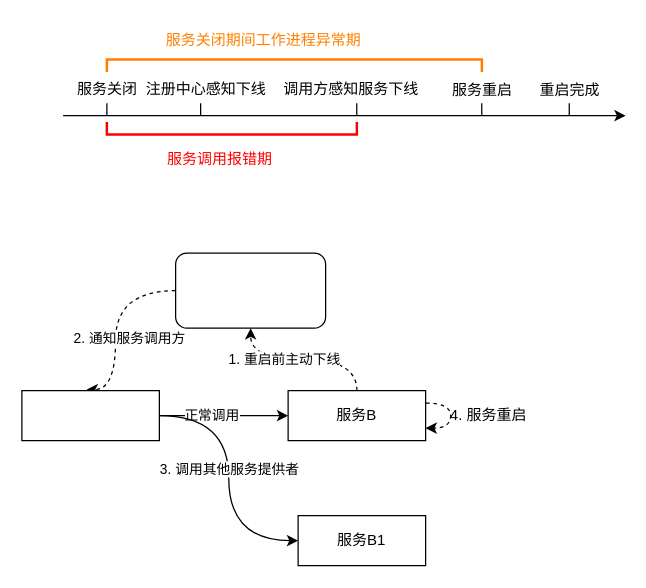
Image size: 646x588. Some labels were removed from this diagram. The shapes that lost their labels are listed below. From the top down, each one's centre as x and y in pixels, then its label:
pixel 250 290: 注册中心
pixel 90 415: 服务A
